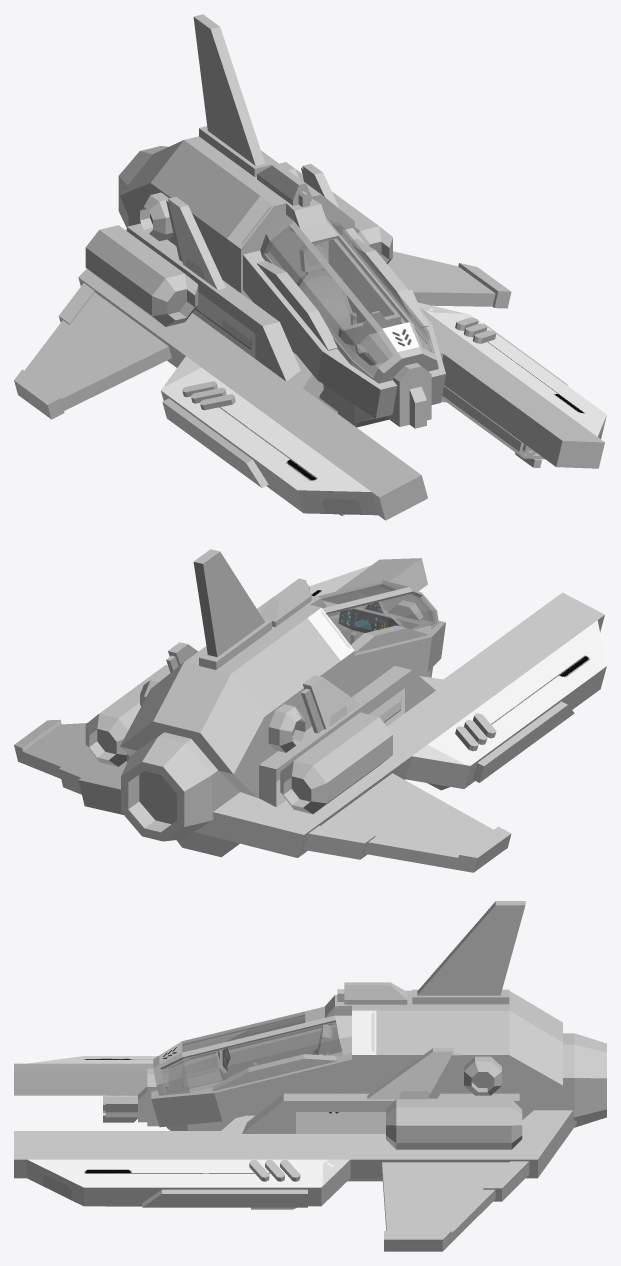
File: SM_SpaceshipS_Assault04.fbx
3 renders of one model, top to bottom at view 1: azimuth 30°, elevation 25°; view 2: azimuth 150°, elevation 25°; view 3: azimuth 270°, elevation 25°, orthographic. The views are drawn at different scales.
Visible parts, largest first — view 1: SM_SpaceshipS_Assault04_Body, SM_SpaceshipS_Assault03_Cockpit, SM_SpaceshipS_Assault03_Cockpit_Glass, SM_SpaceshipS_Assault03_L_Cannon; view 2: SM_SpaceshipS_Assault04_Body, SM_SpaceshipS_Assault03_Cockpit, SM_SpaceshipS_Assault03_Cockpit_Glass; view 3: SM_SpaceshipS_Assault04_Body, SM_SpaceshipS_Assault03_Cockpit, SM_SpaceshipS_Assault03_Cockpit_Glass, SM_SpaceshipS_Assault03_R_Cannon.
Part boxes in pixels (<box>): SM_SpaceshipS_Assault04_Body: <box>14,14,606,520</box>; SM_SpaceshipS_Assault03_Cockpit: <box>243,198,445,428</box>; SM_SpaceshipS_Assault03_Cockpit_Glass: <box>264,217,434,377</box>; SM_SpaceshipS_Assault03_L_Cannon: <box>441,385,544,467</box>; SM_SpaceshipS_Assault04_Body: <box>14,549,606,872</box>; SM_SpaceshipS_Assault03_Cockpit: <box>176,591,445,857</box>; SM_SpaceshipS_Assault03_Cockpit_Glass: <box>316,580,436,644</box>; SM_SpaceshipS_Assault04_Body: <box>14,901,606,1251</box>; SM_SpaceshipS_Assault03_Cockpit: <box>138,995,382,1181</box>; SM_SpaceshipS_Assault03_Cockpit_Glass: <box>159,1006,342,1093</box>; SM_SpaceshipS_Assault03_R_Cannon: <box>103,1095,137,1122</box>.
Size of the model in its own units: 520 by 321 by 662.
